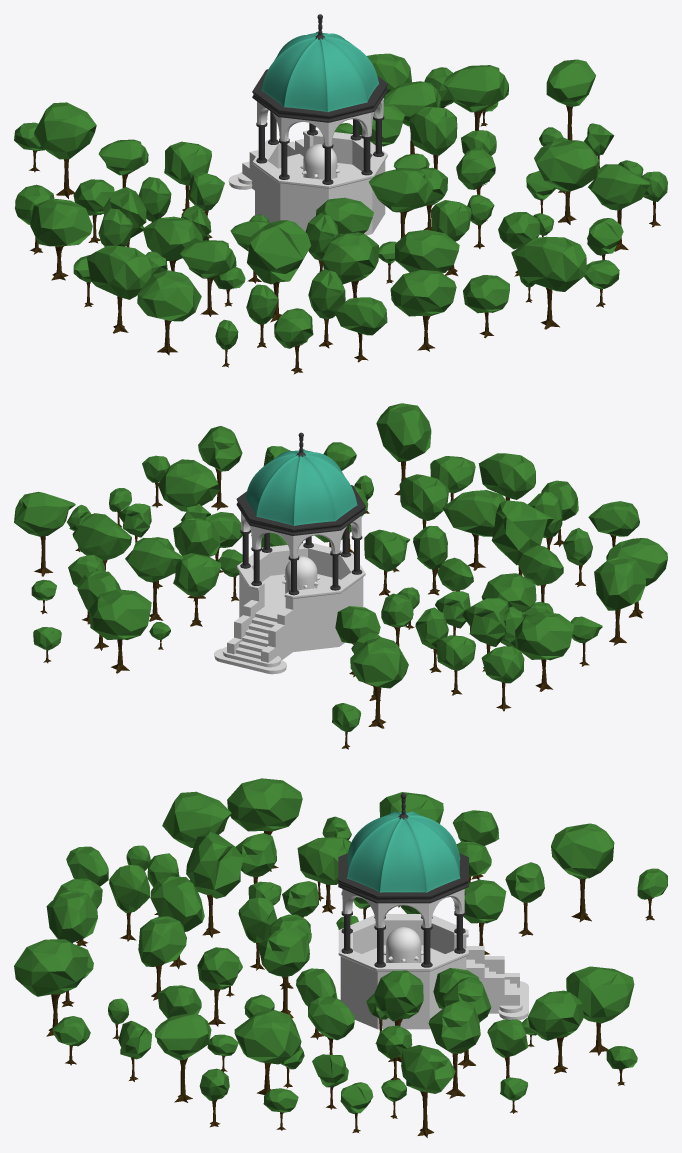
The model's file is female.obj.
The picture shows the model from 3 angles, top to bottom: view 1: azimuth 30°, elevation 25°; view 2: azimuth 150°, elevation 25°; view 3: azimuth 270°, elevation 25°; orthographic projection. The views are drawn at different scales.
Visible parts, largest first — view 1: alaman, Cylinder070, Cylinder045, Cylinder066, Cylinder082, Cylinder052, Cylinder065, Cylinder068, Cylinder061, Cylinder030, Cylinder084, Cylinder044 (+41 smaller); view 2: alaman, Cylinder092, Cylinder070, Cylinder045, Cylinder068, Cylinder082, Cylinder066, Cylinder052, Cylinder044, Cylinder077, Cylinder061, Cylinder030 (+34 smaller); view 3: alaman, Cylinder070, Cylinder066, Cylinder045, Cylinder092, Cylinder082, Cylinder052, Cylinder065, Cylinder079, Cylinder030, Cylinder077, Cylinder073 (+38 smaller).
Boxes of the visible parts, <box> form: alaman: <box>228,14,387,235</box>; Cylinder070: <box>511,236,586,329</box>; Cylinder045: <box>247,220,311,322</box>; Cylinder066: <box>86,245,151,333</box>; Cylinder082: <box>34,102,96,198</box>; Cylinder052: <box>534,140,599,224</box>; Cylinder065: <box>137,270,201,355</box>; Cylinder068: <box>30,199,92,280</box>; Cylinder061: <box>390,269,456,351</box>; Cylinder030: <box>443,65,508,130</box>; Cylinder084: <box>369,168,433,238</box>; Cylinder044: <box>322,232,378,297</box>; alaman: <box>214,432,365,674</box>; Cylinder092: <box>89,589,151,673</box>; Cylinder070: <box>376,403,431,495</box>; Cylinder045: <box>491,500,553,575</box>; Cylinder068: <box>515,612,574,691</box>; Cylinder082: <box>350,637,408,728</box>; Cylinder066: <box>594,555,645,645</box>; Cylinder052: <box>158,459,219,511</box>; Cylinder044: <box>442,490,505,570</box>; Cylinder077: <box>14,491,75,576</box>; Cylinder061: <box>478,453,535,500</box>; Cylinder030: <box>72,513,131,571</box>; alaman: <box>338,793,528,1029</box>; Cylinder070: <box>14,939,88,1036</box>; Cylinder066: <box>227,778,302,871</box>; Cylinder045: <box>186,832,243,937</box>; Cylinder092: <box>566,966,634,1055</box>; Cylinder082: <box>551,823,614,921</box>; Cylinder052: <box>234,1010,301,1094</box>; Cylinder065: <box>162,791,231,847</box>; Cylinder079: <box>528,990,583,1073</box>; Cylinder030: <box>428,1000,480,1098</box>; Cylinder077: <box>401,1045,455,1137</box>; Cylinder073: <box>155,1013,211,1102</box>.
Bounding box in the file's own units: 15.64 × 5.27 × 14.9.
